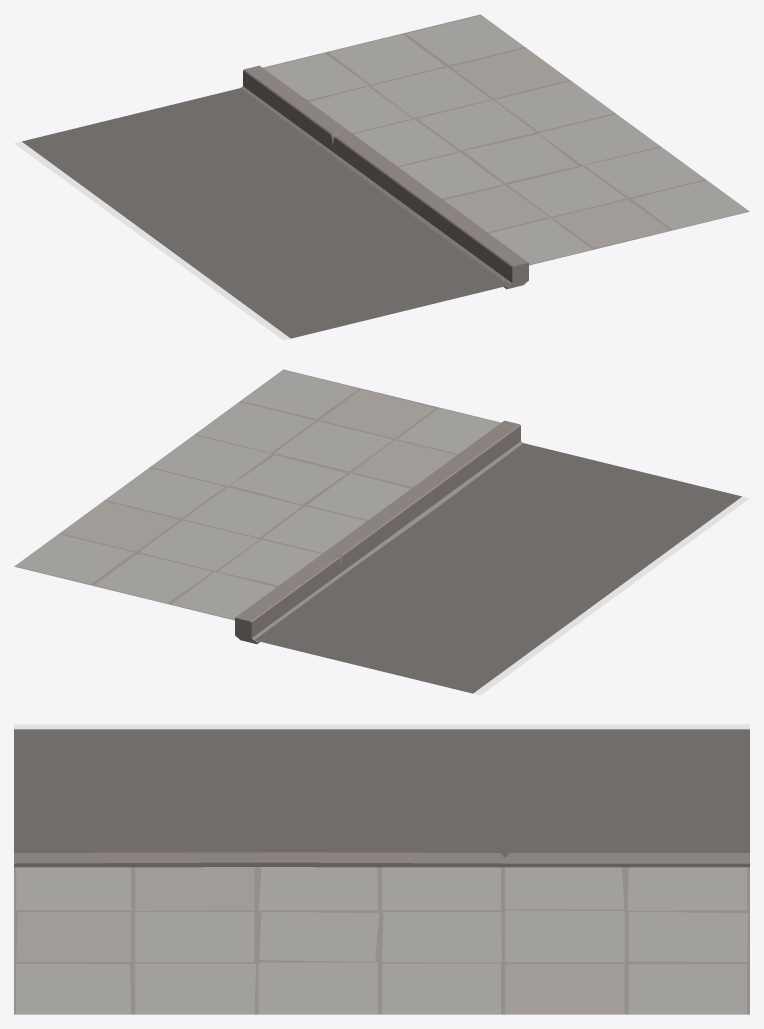
The model's file is Road_03.fbx.
3 views of the same model, one above another, from view 1: azimuth 30°, elevation 25°; view 2: azimuth 150°, elevation 25°; view 3: azimuth 270°, elevation 25° (orthographic). The views are drawn at different scales.
Parts seen in each view (by area): view 1: Road_03; view 2: Road_03; view 3: Road_03.
Part boxes in pixels (x1=…): Road_03: x1=14, y1=14, x2=749, y2=340; Road_03: x1=14, y1=369, x2=749, y2=695; Road_03: x1=14, y1=724, x2=749, y2=1014.
Size of the model in its own units: 12 by 0.5314 by 12.
